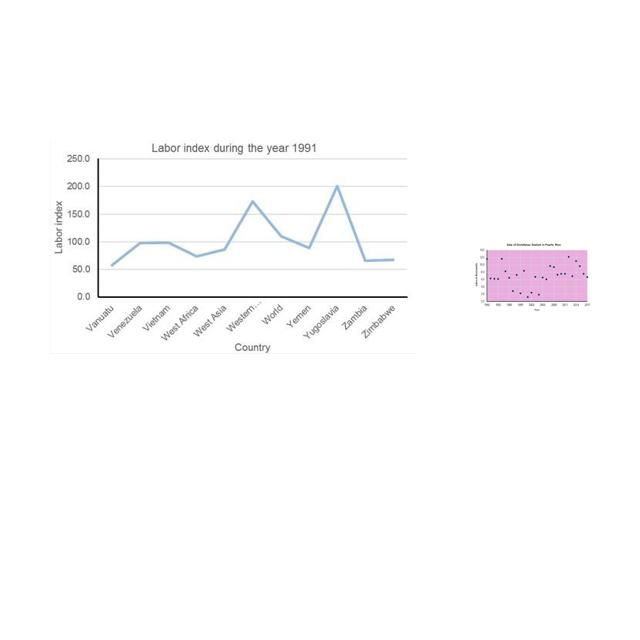Graph: (50, 139, 416, 354), (472, 242, 592, 313)
